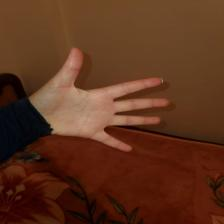five: (38, 48, 174, 156)
